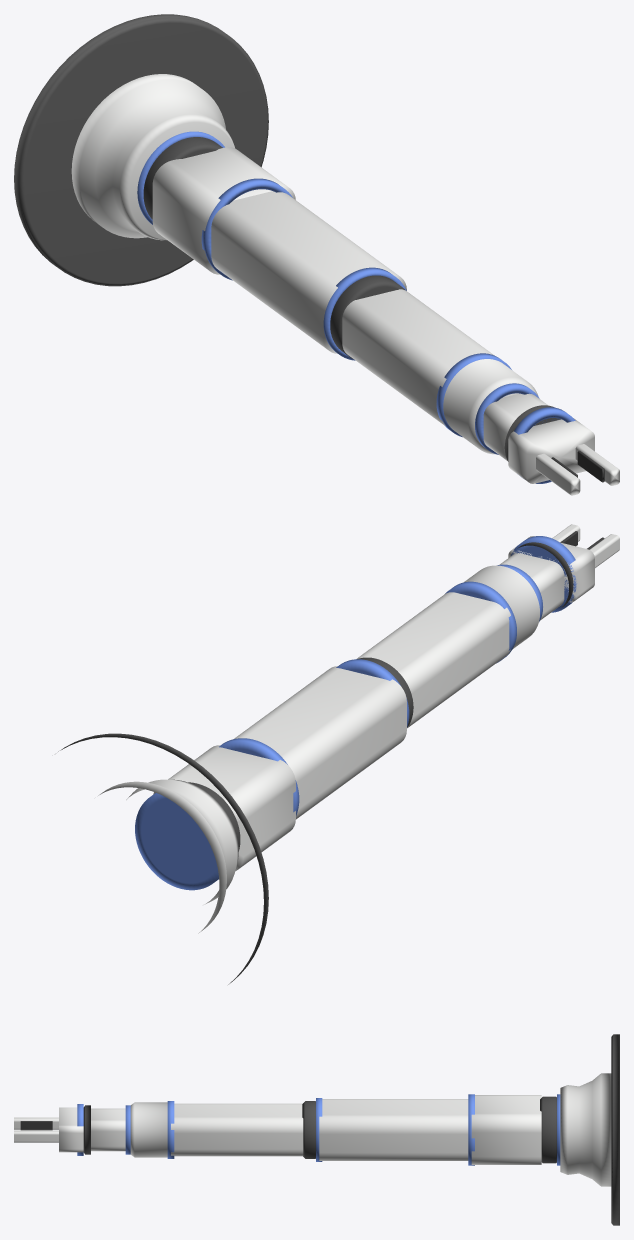
The model's file is thenar-6.glb.
The picture shows the model from 3 angles, top to bottom: view 1: azimuth 30°, elevation 25°; view 2: azimuth 150°, elevation 25°; view 3: azimuth 270°, elevation 25°; orthographic projection. The views are drawn at different scales.
Parts seen in each view (by area): view 1: plinth, upper_arm, pedestal, forearm, shoulder, wrist_housing, gripper_body, wrist_yoke, j3_barrel, j1_barrel, j2_collar, j3_collar (+5 smaller); view 2: upper_arm, forearm, shoulder, j1_collar, pedestal, wrist_housing, plinth, wrist_yoke, gripper_body, j6_collar, j4_collar, j2_collar (+1 smaller); view 3: upper_arm, forearm, pedestal, shoulder, wrist_housing, plinth, wrist_yoke, j1_barrel, gripper_body, j3_barrel, finger_right, j4_collar (+7 smaller).
Part boxes in pixels (x1=…): plinth: x1=14, y1=14, x2=268, y2=286; upper_arm: x1=211, y1=191, x2=406, y2=353; pedestal: x1=71, y1=74, x2=234, y2=240; forearm: x1=342, y1=289, x2=494, y2=426; shoulder: x1=152, y1=147, x2=295, y2=274; wrist_housing: x1=443, y1=359, x2=538, y2=454; gripper_body: x1=508, y1=418, x2=594, y2=483; wrist_yoke: x1=483, y1=393, x2=548, y2=460; j3_barrel: x1=330, y1=275, x2=405, y2=358; j1_barrel: x1=143, y1=137, x2=222, y2=219; j2_collar: x1=201, y1=178, x2=292, y2=280; j3_collar: x1=323, y1=267, x2=406, y2=360; upper_arm: x1=233, y1=666, x2=406, y2=819; forearm: x1=356, y1=592, x2=510, y2=728; shoulder: x1=153, y1=745, x2=295, y2=870; j1_collar: x1=135, y1=793, x2=218, y2=890; pedestal: x1=98, y1=779, x2=238, y2=933; wrist_housing: x1=464, y1=565, x2=539, y2=649; plinth: x1=58, y1=733, x2=268, y2=984; wrist_yoke: x1=499, y1=553, x2=564, y2=620; gripper_body: x1=508, y1=536, x2=594, y2=602; j6_collar: x1=510, y1=536, x2=576, y2=612; j4_collar: x1=445, y1=581, x2=516, y2=663; j2_collar: x1=219, y1=738, x2=299, y2=815; upper_arm: x1=319, y1=1099, x2=468, y2=1160; forearm: x1=171, y1=1103, x2=303, y2=1156; pedestal: x1=560, y1=1073, x2=611, y2=1186; shoulder: x1=471, y1=1095, x2=541, y2=1164; wrist_housing: x1=130, y1=1102, x2=167, y2=1157; plinth: x1=611, y1=1034, x2=619, y2=1225; wrist_yoke: x1=91, y1=1108, x2=125, y2=1151; j1_barrel: x1=540, y1=1096, x2=556, y2=1163; gripper_body: x1=59, y1=1107, x2=83, y2=1152; j3_barrel: x1=302, y1=1101, x2=315, y2=1158; finger_right: x1=14, y1=1130, x2=58, y2=1142; j4_collar: x1=167, y1=1101, x2=174, y2=1158.
Bounding box in the file's own units: 0.264 × 0.264 × 0.834.
